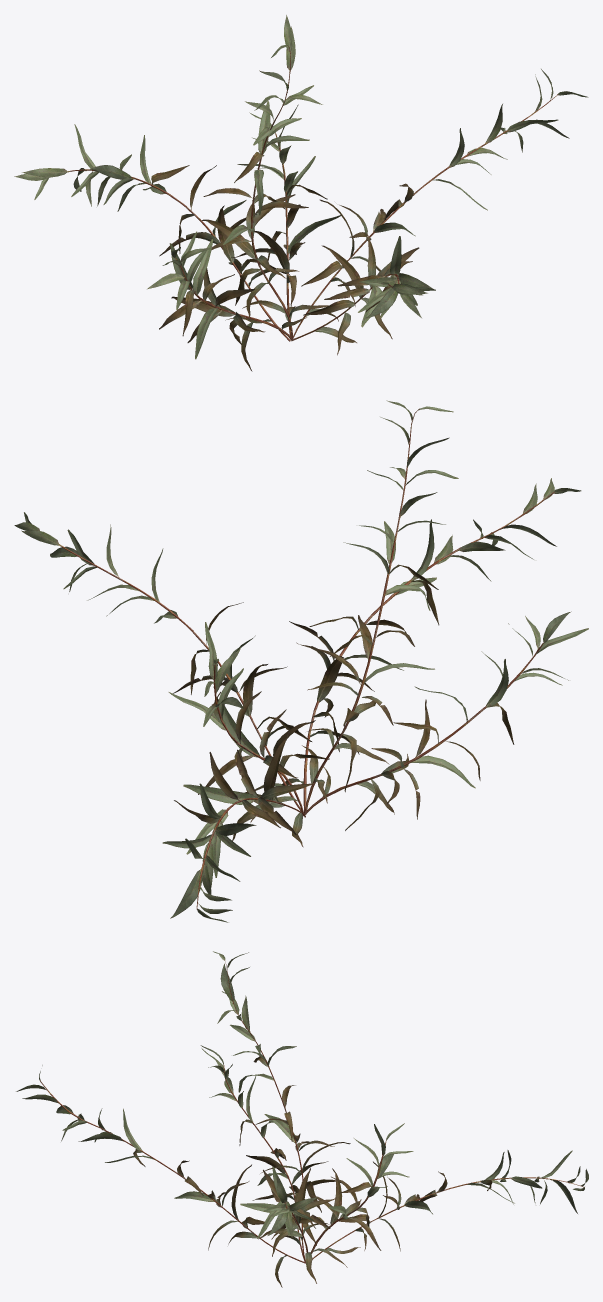
File: shrub_02_c.glb
The picture shows the model from 3 angles, top to bottom: view 1: azimuth 30°, elevation 25°; view 2: azimuth 150°, elevation 25°; view 3: azimuth 270°, elevation 25°; orthographic projection. The views are drawn at different scales.
Visible parts, largest first — view 1: shrub_02_c; view 2: shrub_02_c; view 3: shrub_02_c.
Part boxes in pixels (<box>): shrub_02_c: <box>14,15,588,371</box>; shrub_02_c: <box>14,400,588,922</box>; shrub_02_c: <box>16,951,588,1287</box>.
Bounding box in the file's own units: 1.77 × 1.31 × 2.29.
1 material, 1 textured.
